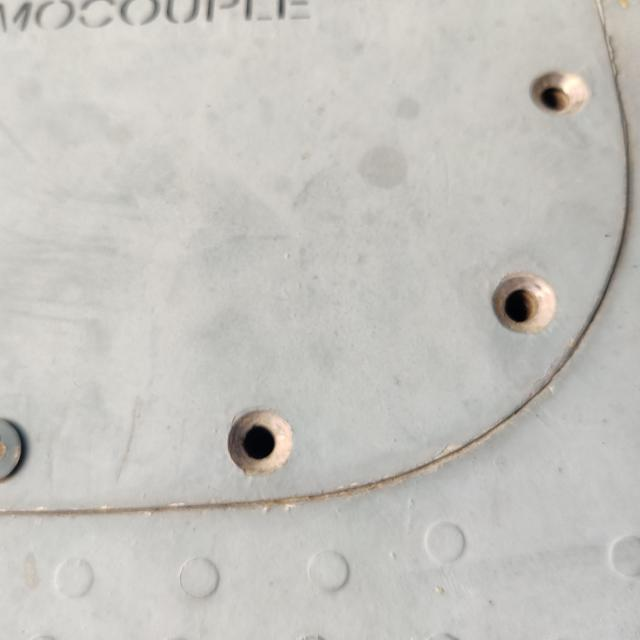missing-head: (196, 386, 322, 514), (458, 243, 588, 363), (508, 34, 621, 149)
